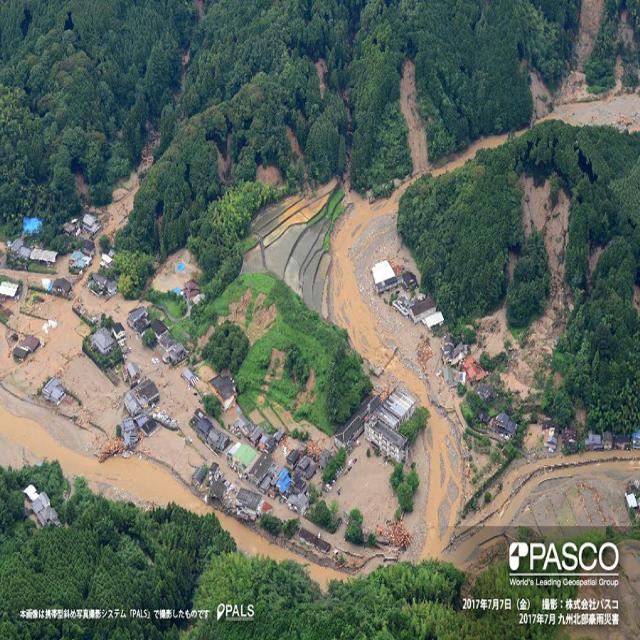Debris-flow: (530, 0, 640, 131), (400, 60, 506, 176), (522, 179, 569, 280), (100, 172, 140, 233)
